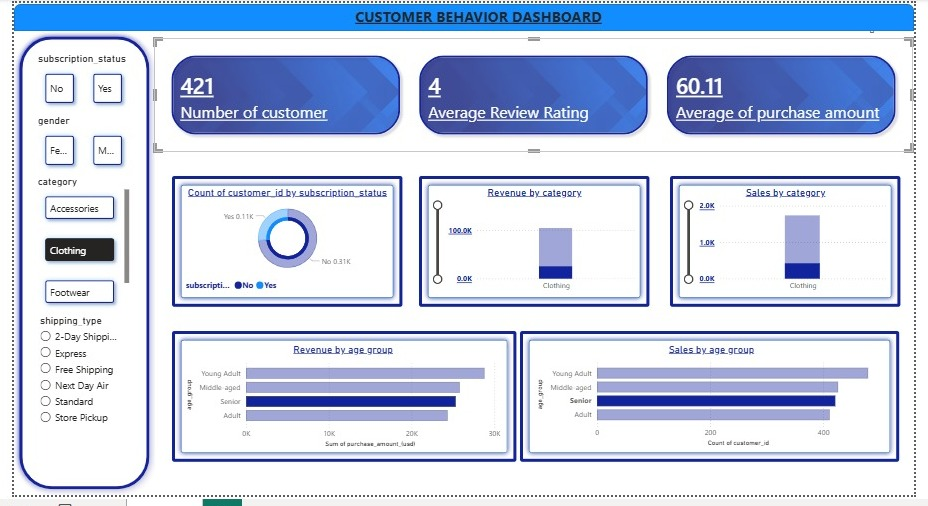

What the dashboard file says about the page in this screenshot:
{"tool":"powerbi","page":{"name":"Page 1","canvas":[1500,820],"ordinal":0},"visuals":[{"type":"cardVisual","fields":{"Data":["customer.Number of customer","customer.Average Review Rating","customer.Average of purchase amount"]},"box":[233.3,58.3,1265,190],"z":0},{"type":"shape","box":[0,1.7,1500,45.3],"z":1000},{"type":"textbox","box":[455,0,638.3,45],"z":2000},{"type":"shape","box":[263.1,288.3,383.8,217.9],"z":3000},{"type":"shape","box":[1092.7,288.3,383.8,217.9],"z":4000},{"type":"shape","box":[675.4,288.3,383.8,217.9],"z":5000},{"type":"donutChart","fields":{"Category":["customer.subscription_status"],"Y":["CountNonNull(customer.customer_id)"]},"box":[281.6,305,348.6,184.4],"z":6000},{"type":"clusteredColumnChart","title":"Revenue by category","fields":{"Y":["Sum(customer.purchase_amount_(usd))"],"Category":["customer.category"]},"box":[695.5,305,345.3,184.4],"z":7000},{"type":"clusteredColumnChart","title":"Sales by category","fields":{"Category":["customer.category"],"Y":["CountNonNull(customer.customer_id)"]},"box":[1112.8,305,345.3,184.4],"z":8000},{"type":"shape","box":[0,46.9,234.6,772.6],"z":9000},{"type":"advancedSlicerVisual","fields":{"Values":["customer.subscription_status"]},"box":[35.2,82.1,162.6,102.2],"z":10000},{"type":"advancedSlicerVisual","fields":{"Values":["customer.gender"]},"box":[35.2,184.4,162.6,102.2],"z":11000},{"type":"advancedSlicerVisual","fields":{"Values":["customer.category"]},"box":[35.2,286.6,162.6,231.3],"z":12000},{"type":"listSlicer","fields":{"Values":["customer.shipping_type"]},"box":[38.5,517.9,140.8,246.4],"z":13000},{"type":"shape","box":[264,546,574,218],"z":14000},{"type":"shape","box":[844,546,632,218],"z":15000},{"type":"clusteredBarChart","title":"Sales by age group","fields":{"Category":["customer.age_group"],"Y":["CountNonNull(customer.customer_id)"]},"box":[866.7,566.7,591.7,176.7],"z":16000},{"type":"clusteredBarChart","title":"Revenue by age group","fields":{"Y":["Sum(customer.purchase_amount_(usd))"],"Category":["customer.age_group"]},"box":[282,566,534,178],"z":17000}]}

Visuals, with their boxes in screenshot pixels (x1, y1, x2, y2), scaled from the page's 1500x820 canvas onto the 928x506 screenshot:
cardVisual - customer.Number of customer x customer.Average Review Rating: x1=144 y1=36 x2=927 y2=153
shape: x1=0 y1=1 x2=927 y2=29
textbox: x1=281 y1=0 x2=676 y2=28
shape: x1=163 y1=178 x2=400 y2=312
shape: x1=676 y1=178 x2=913 y2=312
shape: x1=418 y1=178 x2=655 y2=312
donutChart - customer.subscription_status x CountNonNull(customer.customer_id): x1=174 y1=188 x2=390 y2=302
"Revenue by category" clusteredColumnChart: x1=430 y1=188 x2=644 y2=302
"Sales by category" clusteredColumnChart: x1=688 y1=188 x2=902 y2=302
shape: x1=0 y1=29 x2=145 y2=505
advancedSlicerVisual - customer.subscription_status: x1=22 y1=51 x2=122 y2=114
advancedSlicerVisual - customer.gender: x1=22 y1=114 x2=122 y2=177
advancedSlicerVisual - customer.category: x1=22 y1=177 x2=122 y2=320
listSlicer - customer.shipping_type: x1=24 y1=320 x2=111 y2=472
shape: x1=163 y1=337 x2=518 y2=471
shape: x1=522 y1=337 x2=913 y2=471
"Sales by age group" clusteredBarChart: x1=536 y1=350 x2=902 y2=459
"Revenue by age group" clusteredBarChart: x1=174 y1=349 x2=505 y2=459
